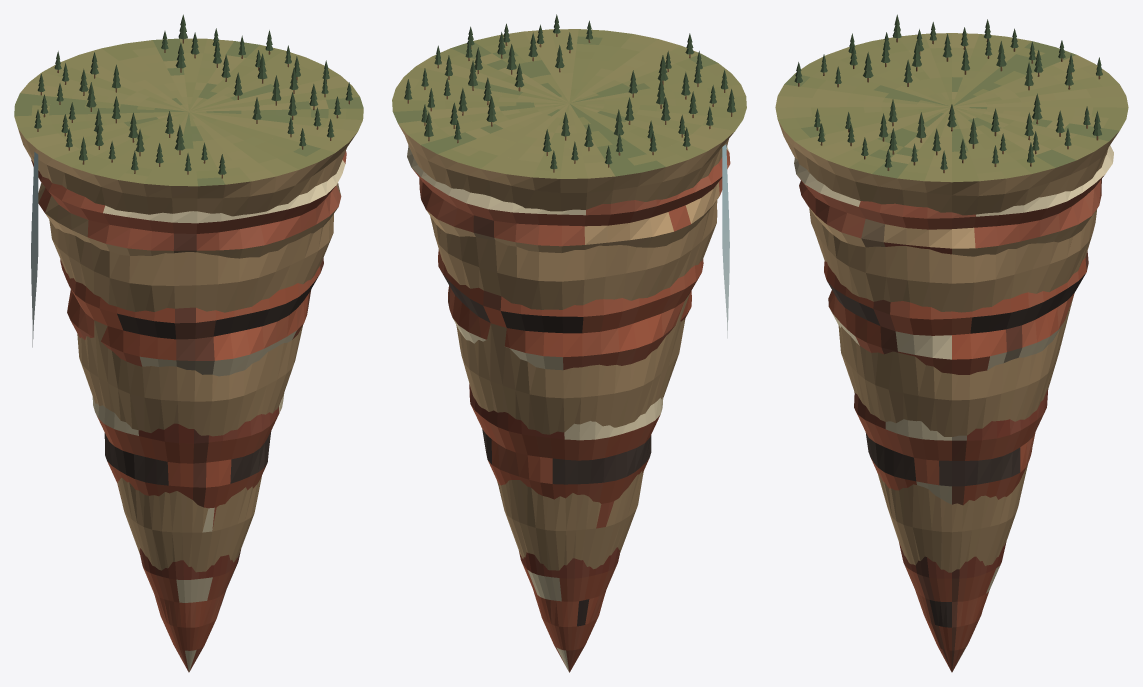
Rendered from floating_island.glb.
3 renders of one model, left to right at view 1: azimuth 30°, elevation 25°; view 2: azimuth 150°, elevation 25°; view 3: azimuth 270°, elevation 25°, orthographic.
Visible parts, largest first — view 1: floating_island, floating_island-col; view 2: floating_island, floating_island-col; view 3: floating_island, floating_island-col.
Part boxes in pixels (left/top/right/bottom): floating_island: left=14, top=14, right=363, bottom=672; floating_island-col: left=18, top=128, right=356, bottom=572; floating_island: left=392, top=14, right=746, bottom=672; floating_island-col: left=398, top=124, right=734, bottom=570; floating_island: left=775, top=14, right=1128, bottom=672; floating_island-col: left=778, top=120, right=1119, bottom=572.
Size of the model in its own units: 183 by 336 by 180.
